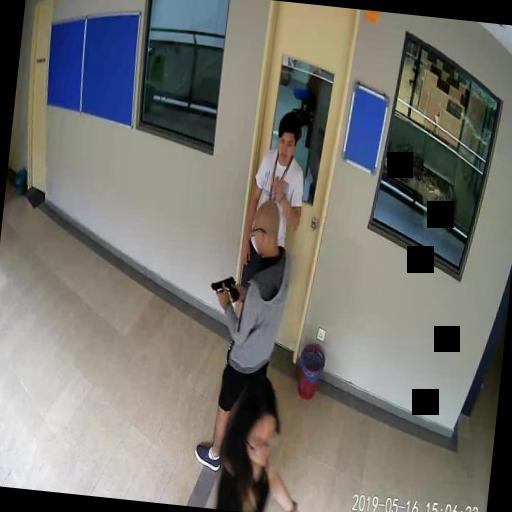Handgun: (208, 274, 240, 302)
